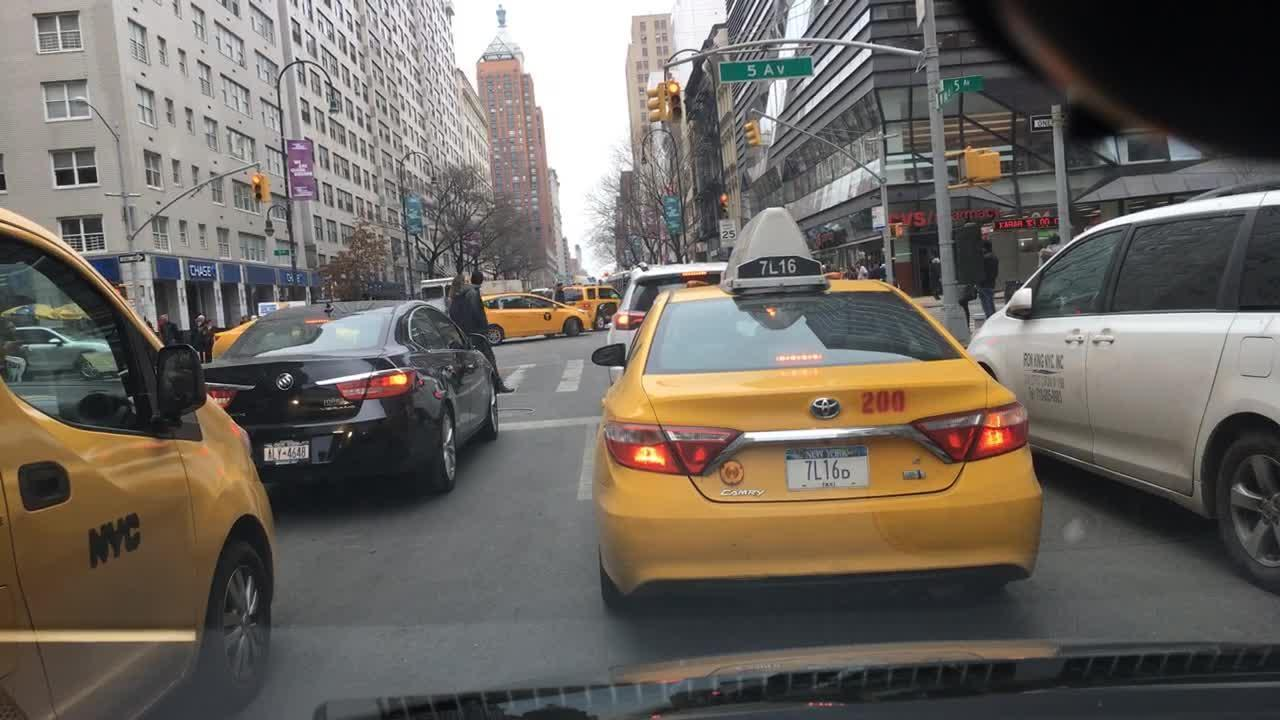Toyota: (796, 388, 857, 432)
no class: (264, 370, 299, 396)
